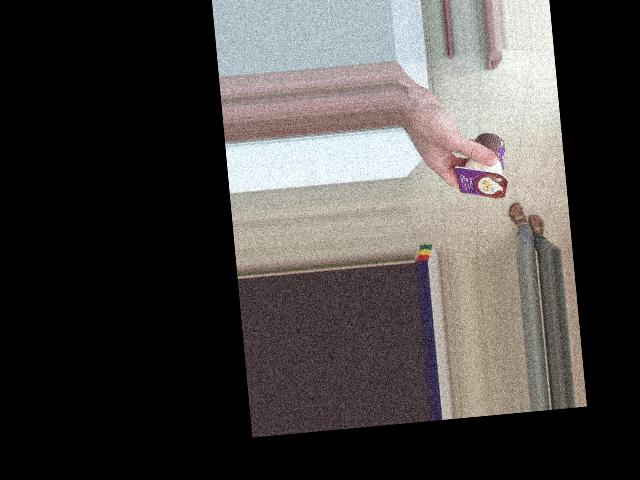milky: (451, 123, 507, 208)
